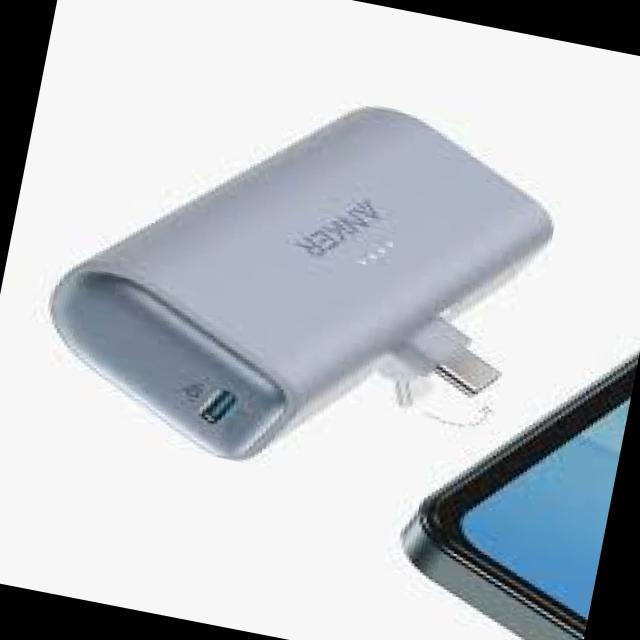power_bank: (14, 46, 588, 522)
